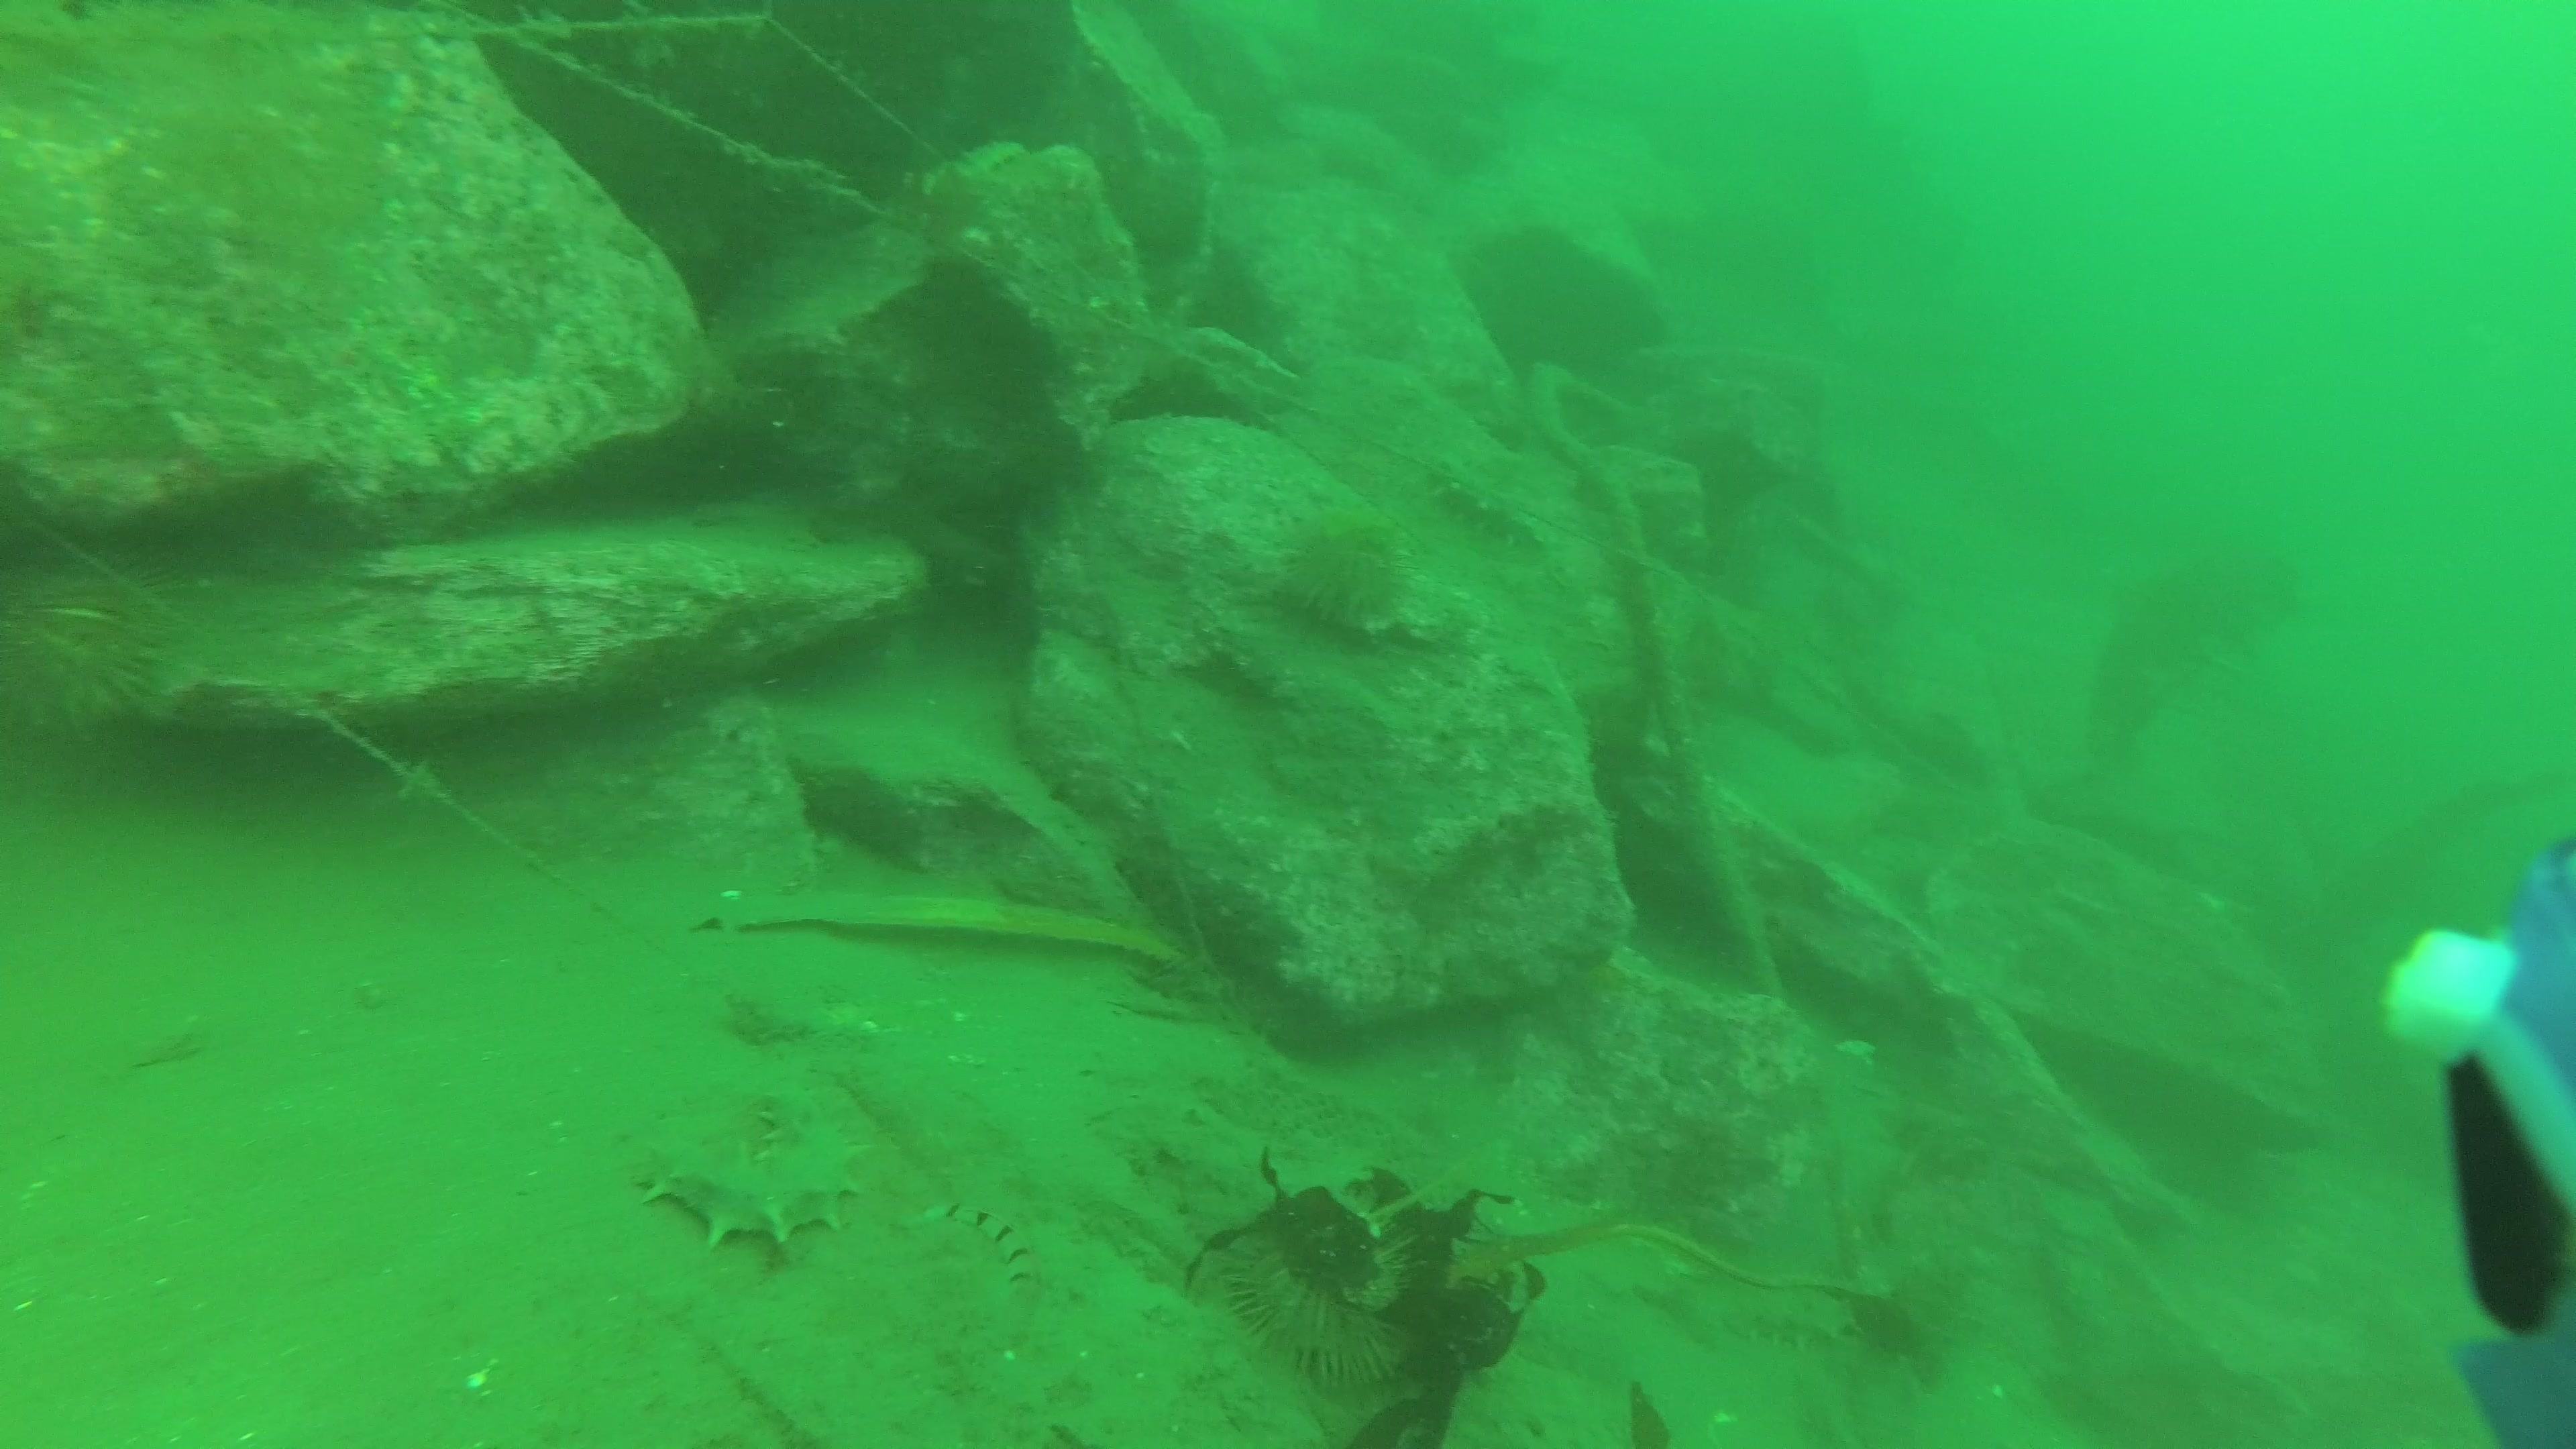echinus: (1208, 1185, 1447, 1407), (11, 517, 249, 738), (1265, 499, 1433, 635)
holothurian: (621, 1085, 874, 1258), (1693, 1276, 1865, 1361)
